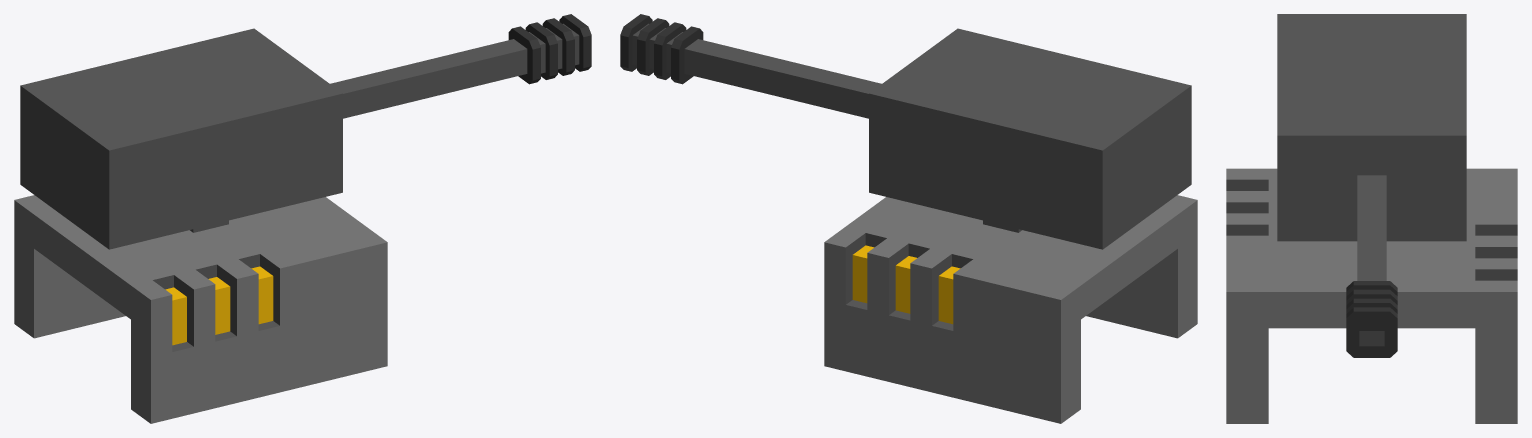
File: gun.fbx
3 views of the same model, side by side, from view 1: azimuth 30°, elevation 25°; view 2: azimuth 150°, elevation 25°; view 3: azimuth 270°, elevation 25° (orthographic). The views are drawn at different scales.
Parts seen in each view (by area): view 1: gun_base, gun_machine, barrel, muzzle; view 2: gun_base, gun_machine, barrel, muzzle; view 3: gun_machine, gun_base, muzzle, barrel.
Boxes of the visible parts, x1=… form: gun_base: x1=14, y1=195, x2=387, y2=423; gun_machine: x1=20, y1=28, x2=342, y2=249; barrel: x1=330, y1=39, x2=527, y2=118; muzzle: x1=508, y1=14, x2=591, y2=84; gun_base: x1=824, y1=195, x2=1197, y2=423; gun_machine: x1=869, y1=28, x2=1191, y2=249; barrel: x1=684, y1=39, x2=881, y2=118; muzzle: x1=620, y1=14, x2=703, y2=84; gun_machine: x1=1277, y1=14, x2=1466, y2=241; gun_base: x1=1226, y1=168, x2=1517, y2=423; muzzle: x1=1346, y1=281, x2=1397, y2=357; barrel: x1=1357, y1=175, x2=1386, y2=280.
Size of the model in its own units: 54.38 by 26.25 by 25.
Materials: 5 (5 with a texture image).
